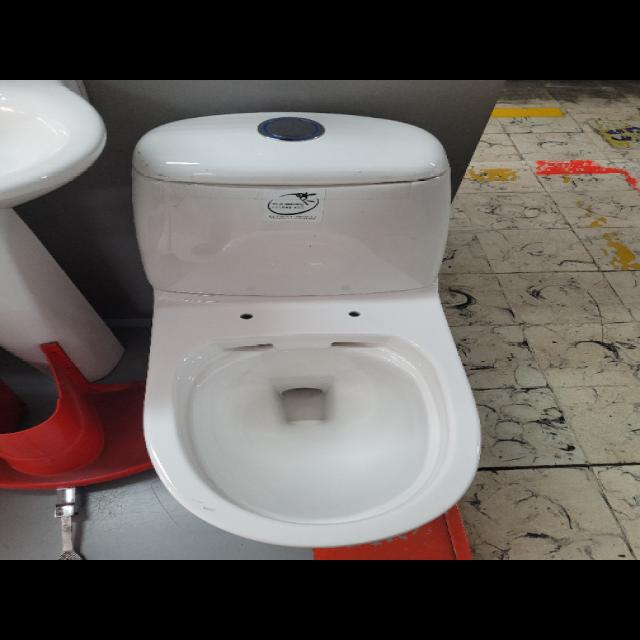toilet: (130, 110, 481, 549)
